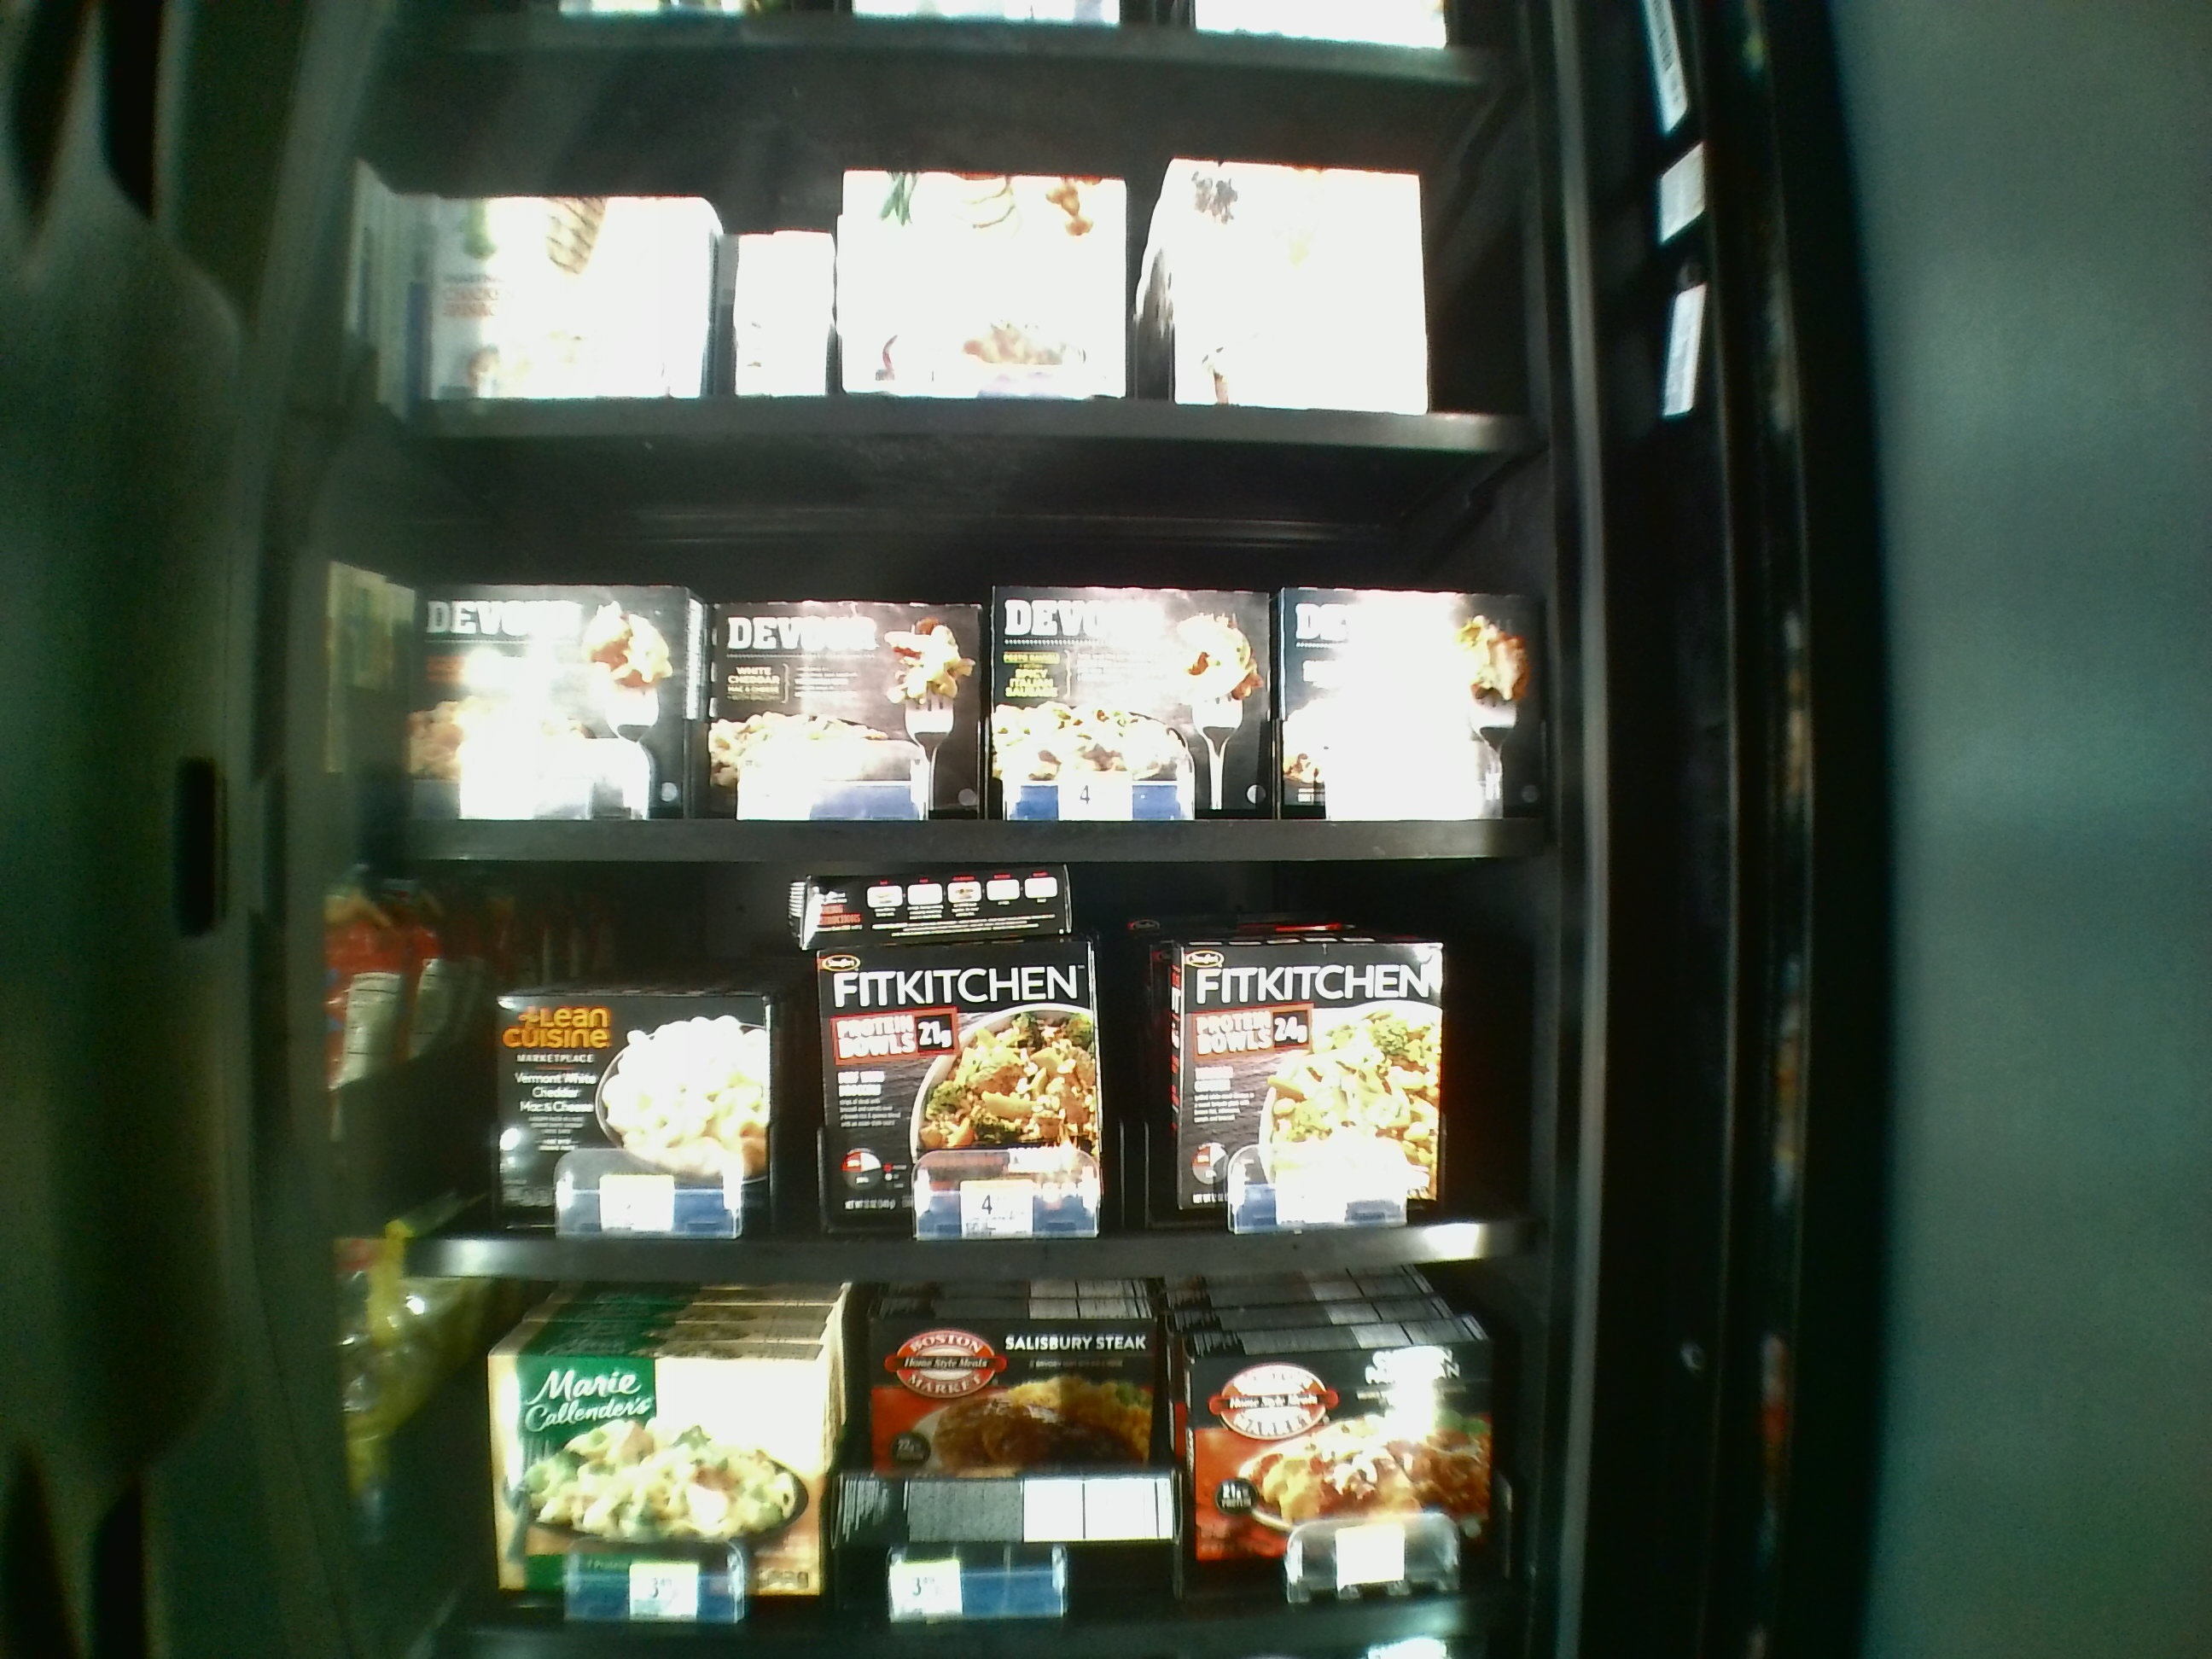shelf: (364, 441, 1554, 857), (374, 877, 1559, 1281)
